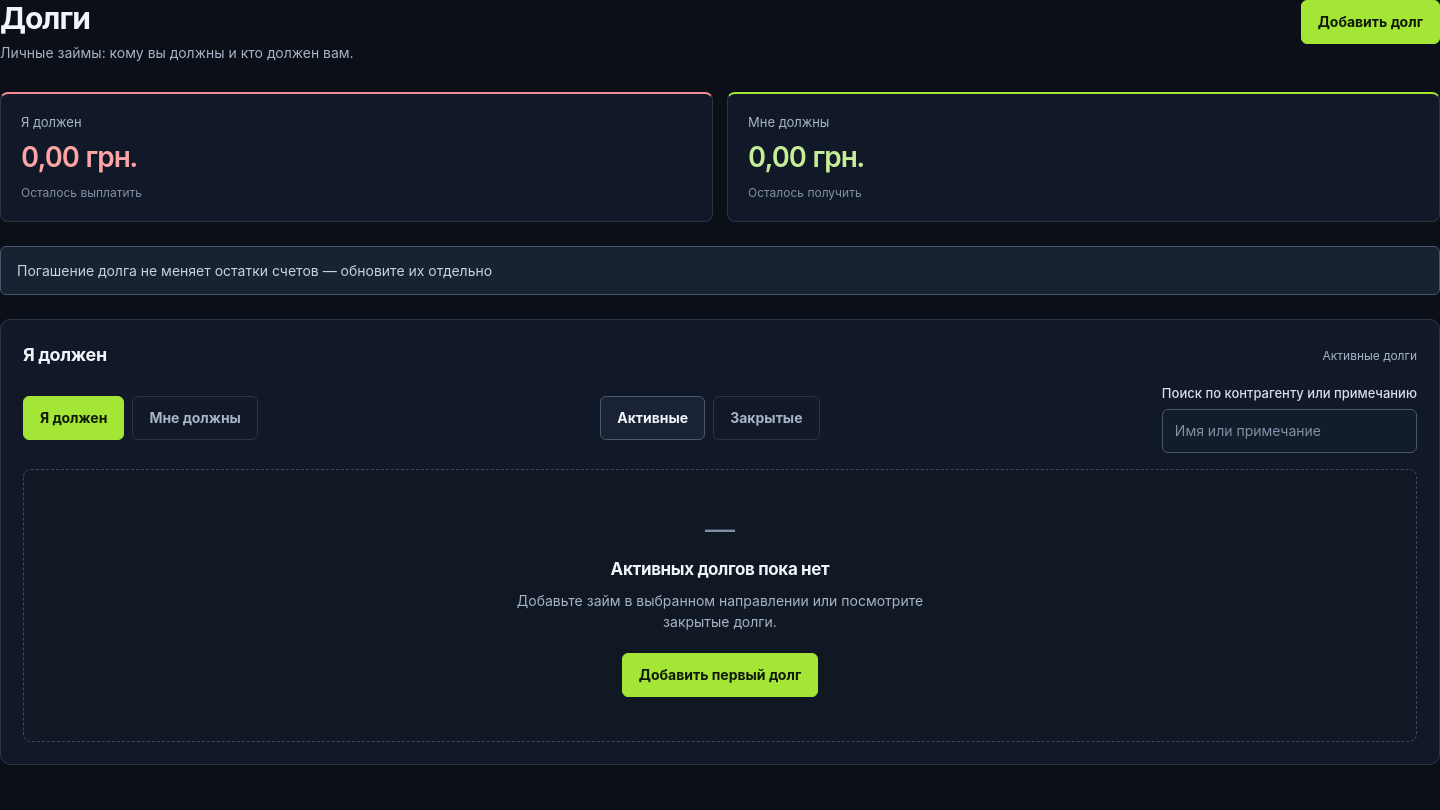
Test case: DebtsPage › creates a payable loan using exact kopecks
Click the button "Добавить долг" at (1370, 22), box [1301,0,1439,44]
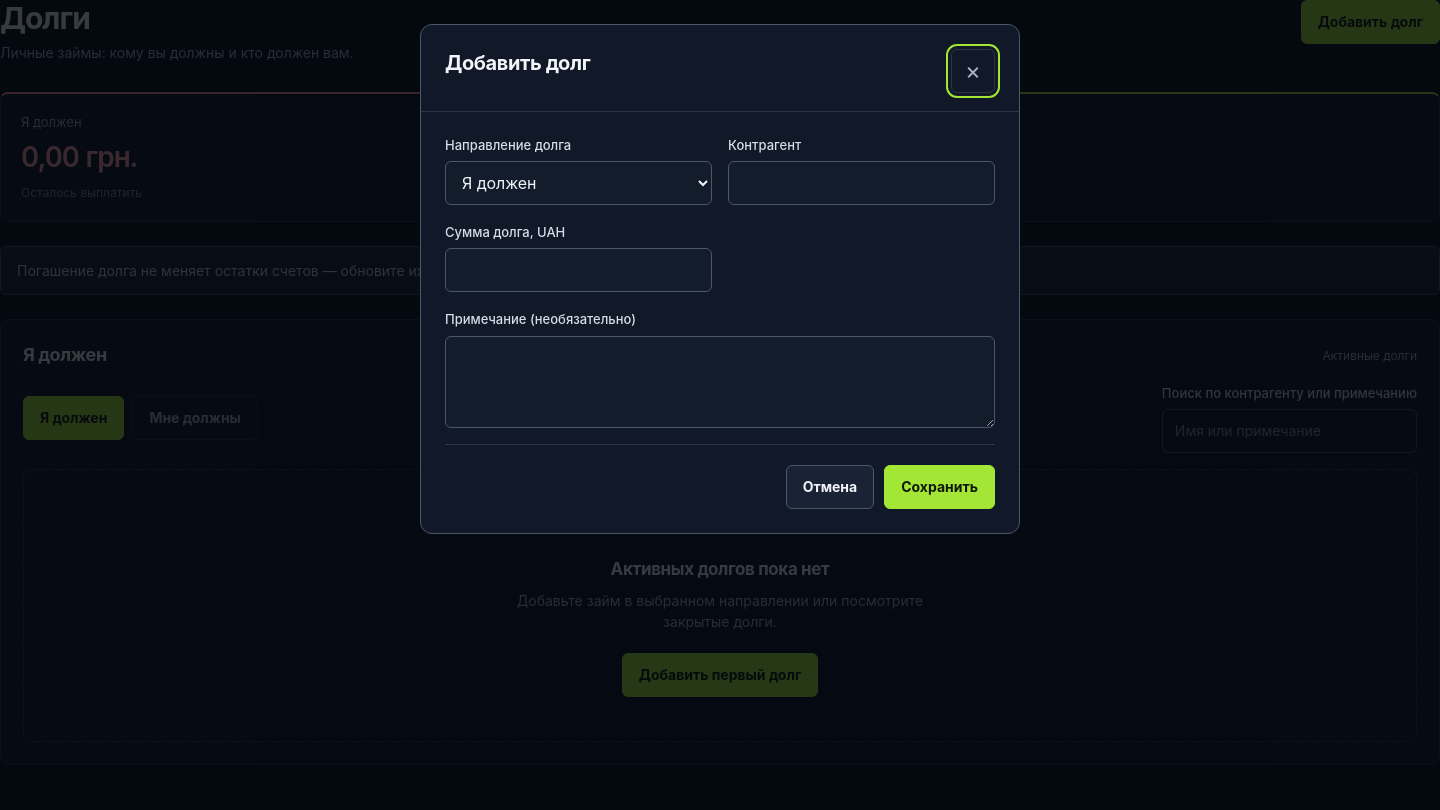
Now the dropdown labelled "Направление долга" shows "Я должен", box [445,161,712,205]
Type "  Борис  " into the field labelled "Контрагент" at (862, 183), box [728,161,995,205]
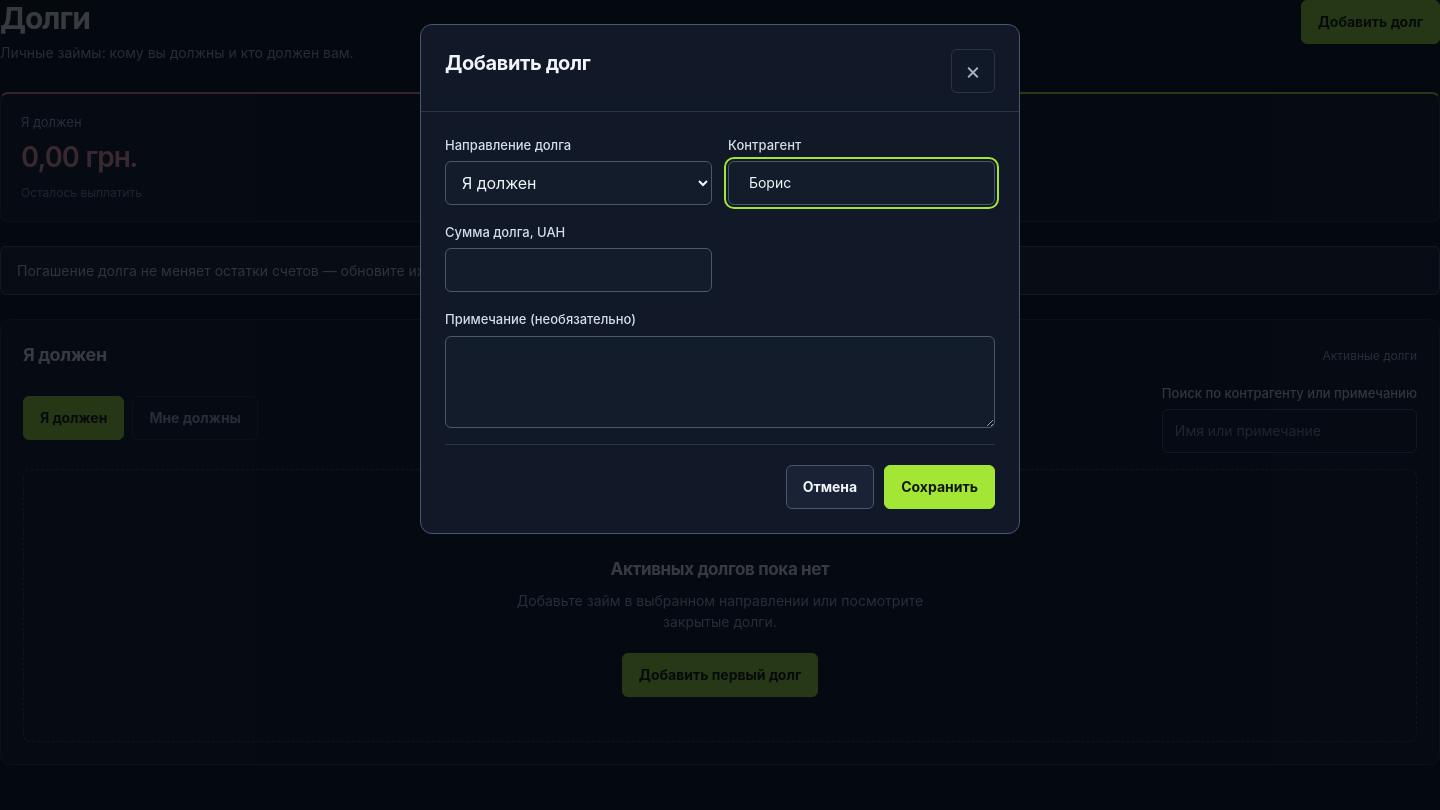
Type "123,45" into the field labelled "Сумма долга, UAH" at (578, 270), box [445,248,712,292]
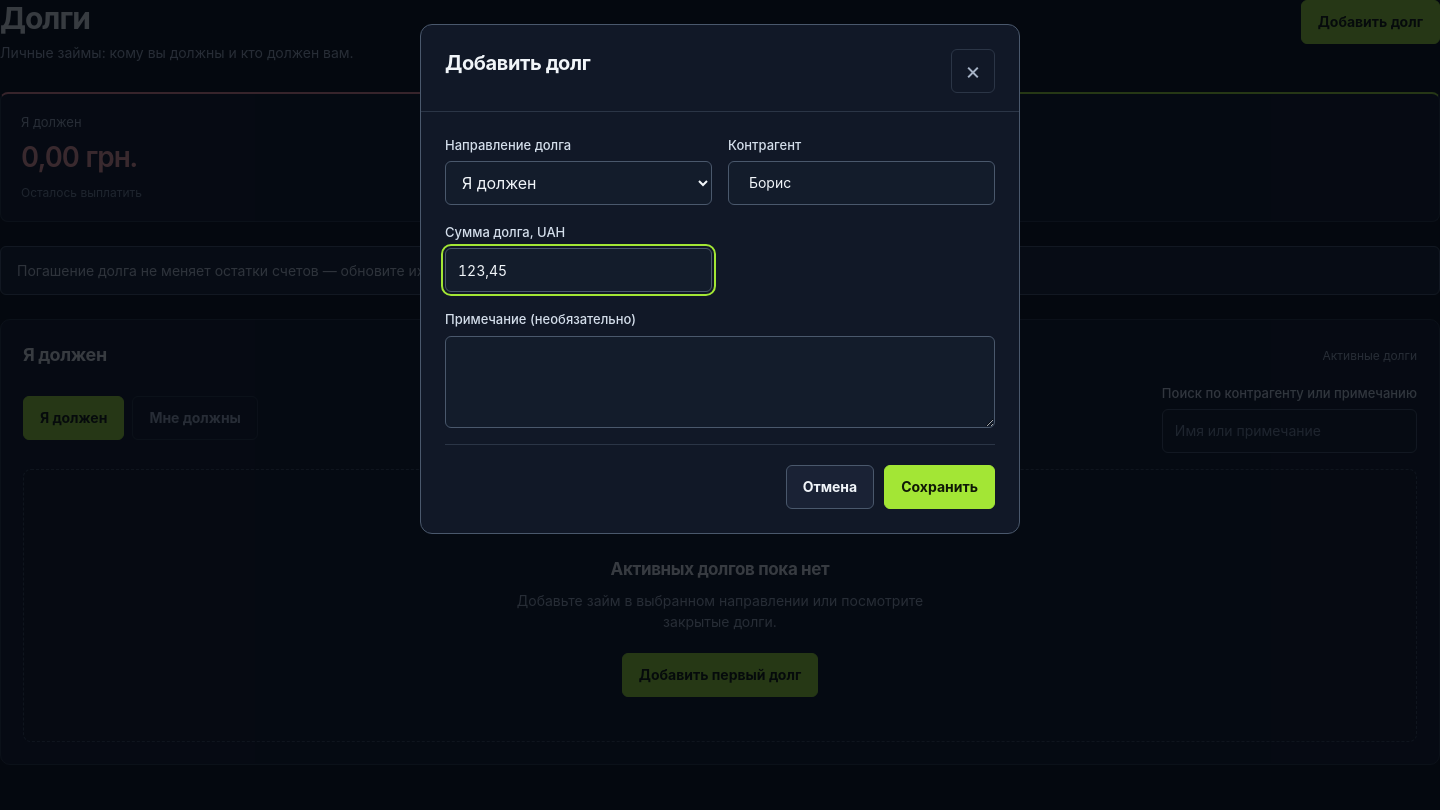
Click the button "Сохранить" at (940, 487), box [884,465,995,509]
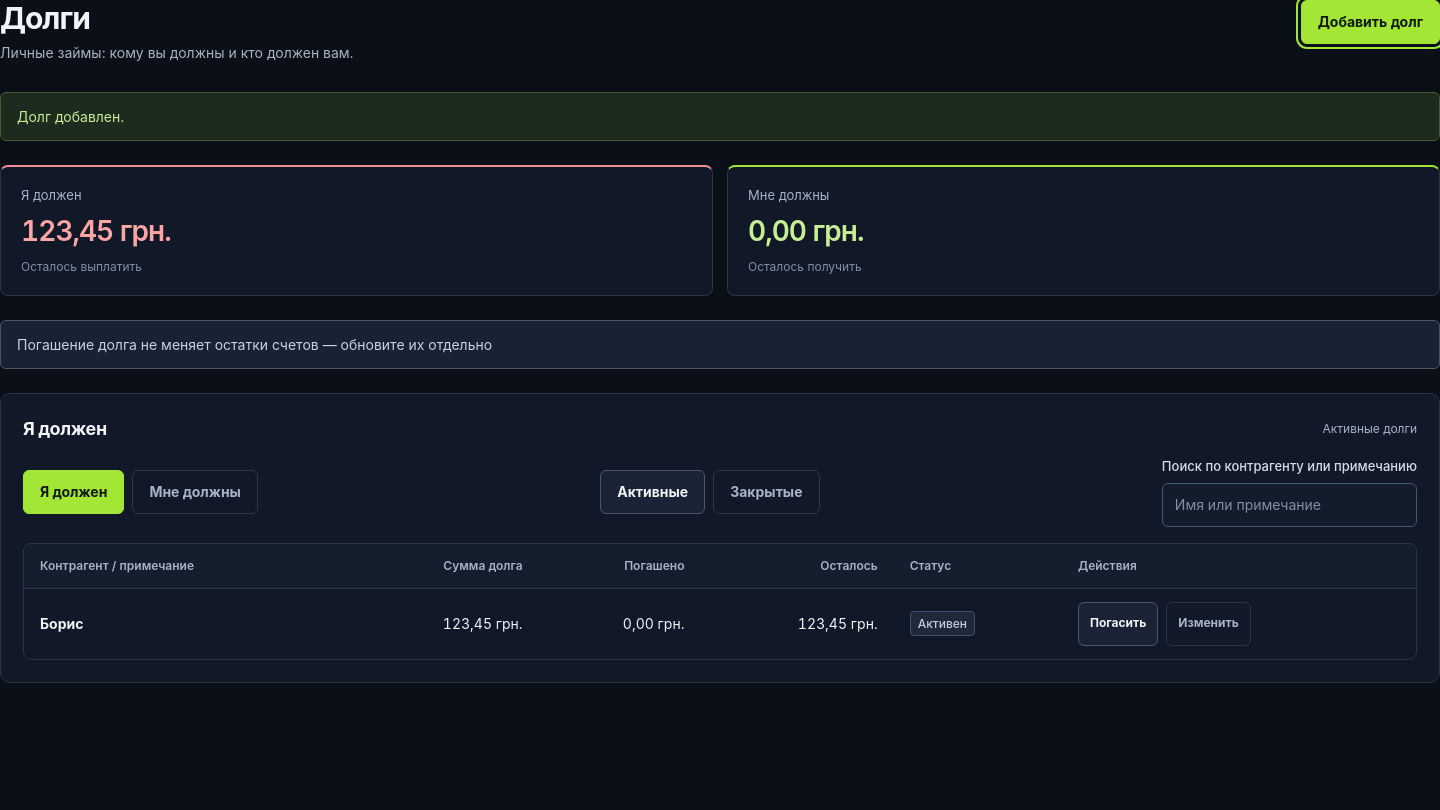
Now the dialog is gone
